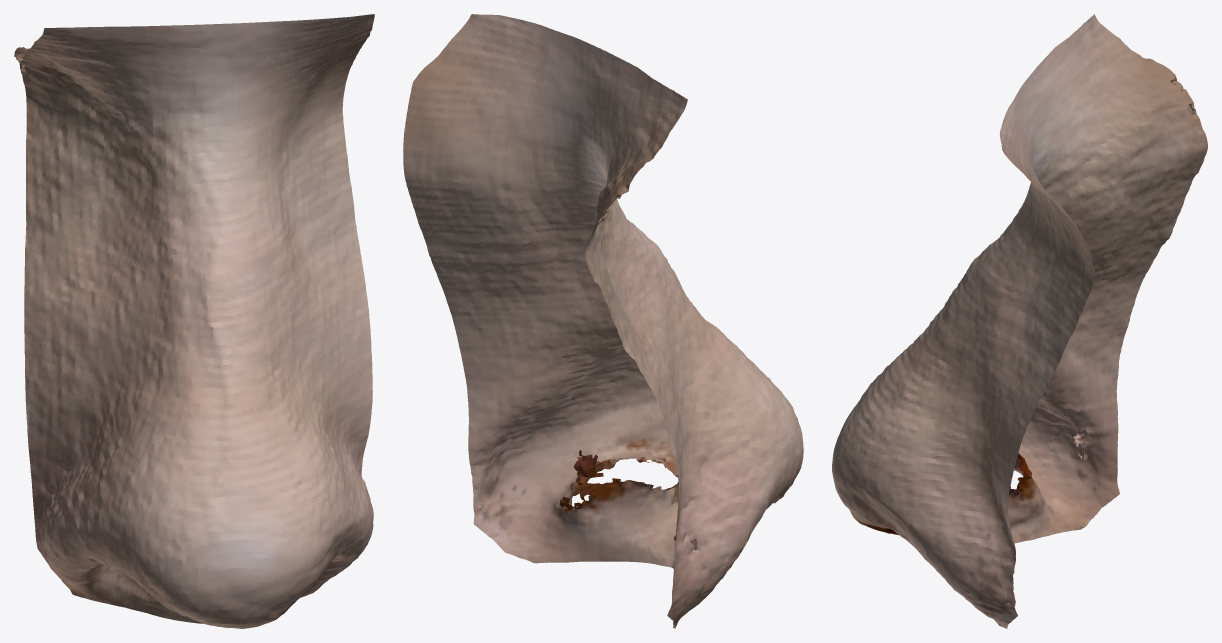
File: Nariz.glb
The picture shows the model from 3 angles, left to right: view 1: azimuth 30°, elevation 25°; view 2: azimuth 150°, elevation 25°; view 3: azimuth 270°, elevation 25°; orthographic projection. The views are drawn at different scales.
Parts seen in each view (by area): view 1: Geode; view 2: Geode; view 3: Geode.
Boxes of the visible parts, bbox=[...] form: Geode: bbox=[14, 14, 374, 628]; Geode: bbox=[403, 14, 803, 628]; Geode: bbox=[832, 14, 1207, 628].
Bounding box in the file's own units: 0.0367 × 0.0618 × 0.0407.
